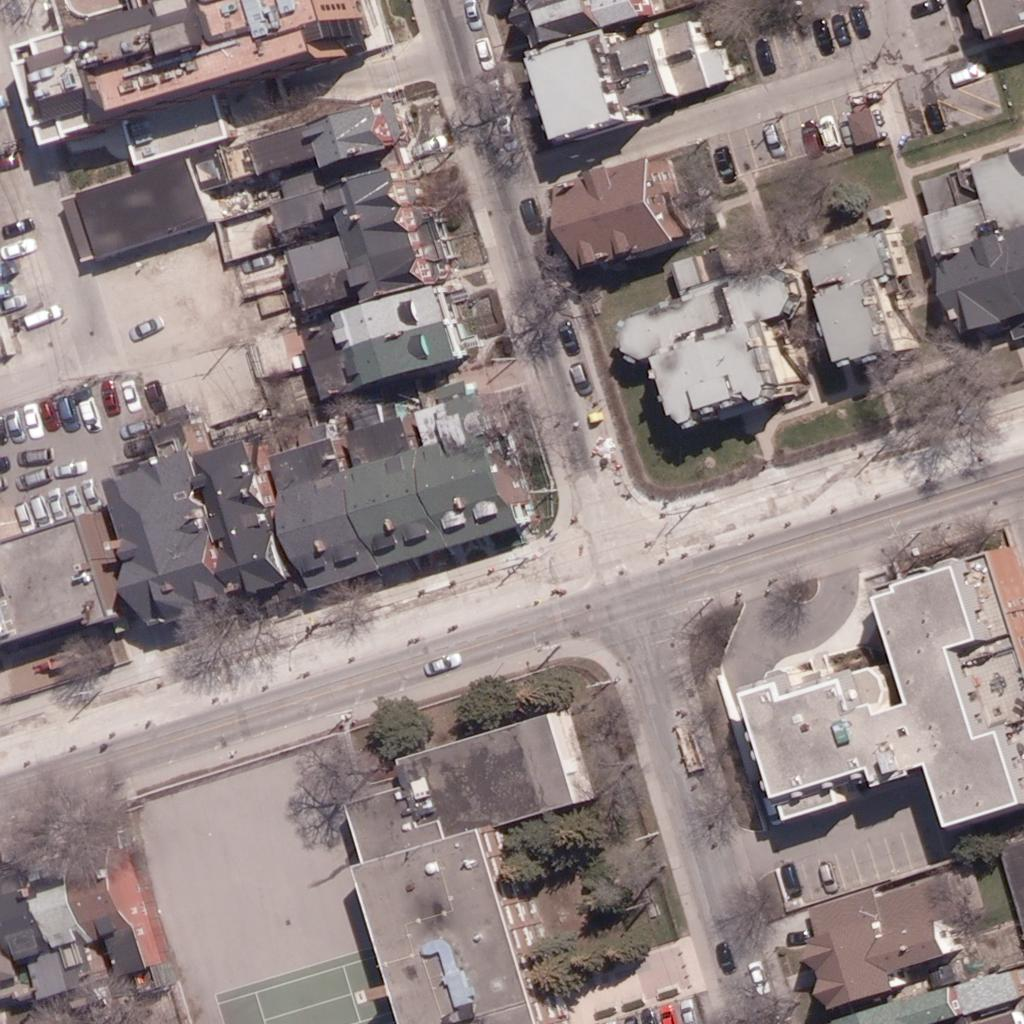car: (842, 5, 876, 39), (822, 15, 856, 49), (803, 19, 837, 53), (463, 34, 497, 68), (749, 39, 783, 73), (952, 56, 986, 90), (477, 82, 511, 116), (915, 98, 949, 132), (828, 112, 862, 146), (489, 114, 523, 148), (805, 118, 839, 152), (752, 123, 786, 157), (414, 127, 448, 161), (792, 127, 826, 161), (709, 146, 743, 180), (515, 203, 549, 237), (237, 244, 271, 278), (22, 299, 56, 333), (117, 313, 151, 347), (552, 325, 586, 359), (559, 364, 593, 398), (90, 375, 124, 409), (113, 382, 147, 416), (136, 384, 170, 418), (137, 384, 171, 418), (30, 396, 64, 430), (13, 403, 47, 437), (52, 403, 86, 437), (69, 404, 103, 438), (117, 411, 151, 445), (119, 425, 153, 459), (18, 438, 52, 472), (53, 449, 87, 483), (16, 460, 50, 494), (68, 481, 102, 515), (55, 483, 89, 517), (38, 492, 72, 526), (21, 494, 55, 528), (22, 494, 56, 528), (5, 500, 39, 534), (421, 645, 455, 679), (809, 859, 843, 893), (773, 865, 807, 899), (784, 919, 818, 953), (706, 941, 740, 975), (741, 962, 775, 996), (454, 0, 488, 31), (0, 209, 30, 243), (0, 232, 30, 266), (0, 407, 29, 441), (668, 996, 702, 1024), (0, 286, 25, 320), (908, 0, 942, 23), (649, 1003, 683, 1024)
